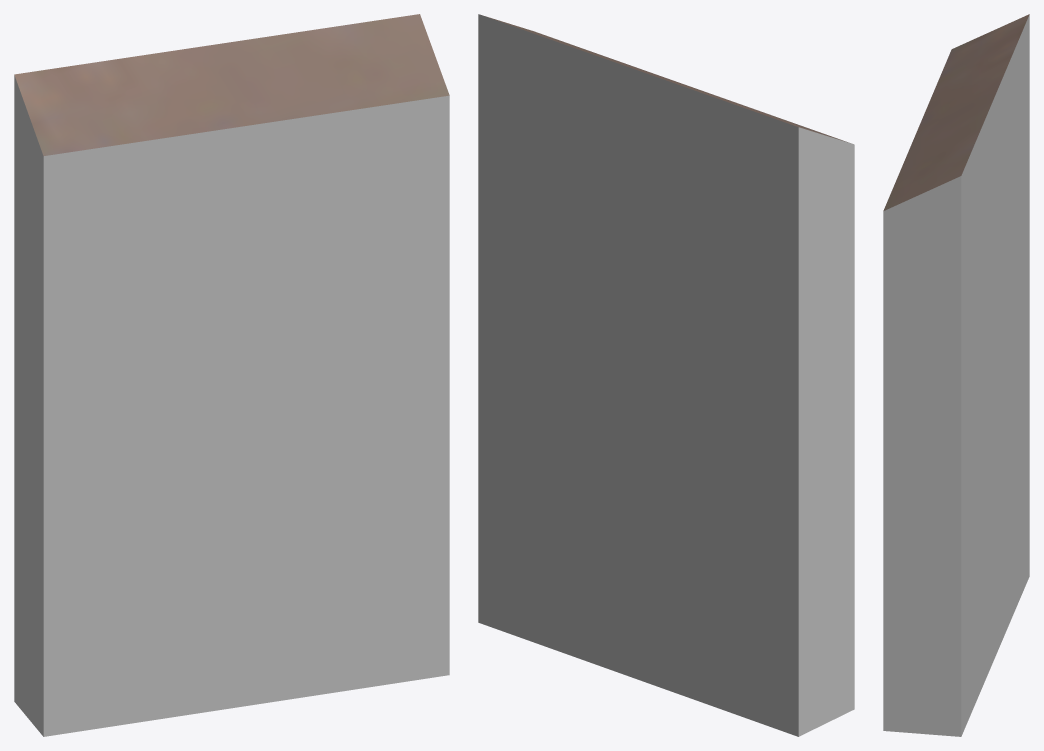
Rendered from DEBW_0010007THZV.gltf.
3 views of the same model, side by side, from view 1: azimuth 30°, elevation 25°; view 2: azimuth 150°, elevation 25°; view 3: azimuth 270°, elevation 25° (orthographic). The views are drawn at different scales.
Parts seen in each view (by area): view 1: Z_UP; view 2: Z_UP; view 3: Z_UP.
Boxes of the visible parts, x1=… form: Z_UP: x1=14, y1=14, x2=449, y2=736; Z_UP: x1=478, y1=14, x2=854, y2=736; Z_UP: x1=883, y1=14, x2=1029, y2=736.
Size of the model in its own units: 8.55 by 13.42 by 3.17.
Materials: 2 (1 with a texture image).
